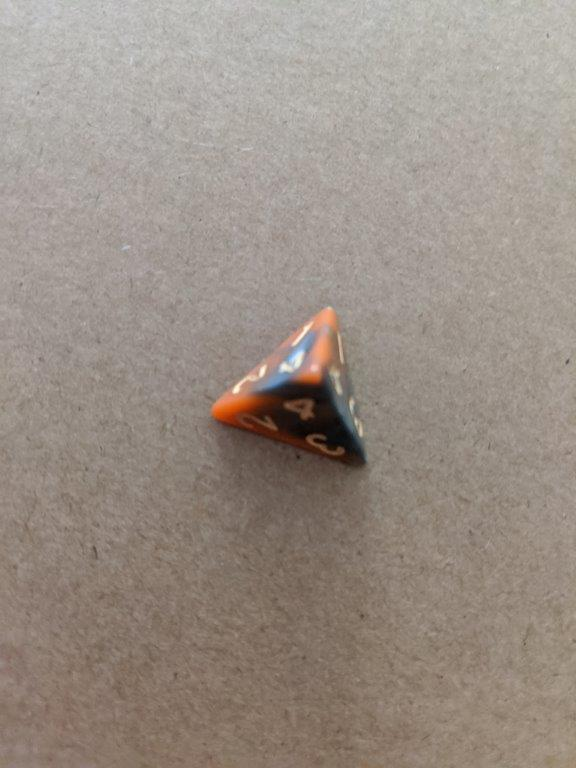d4-4: (208, 300, 375, 472)
